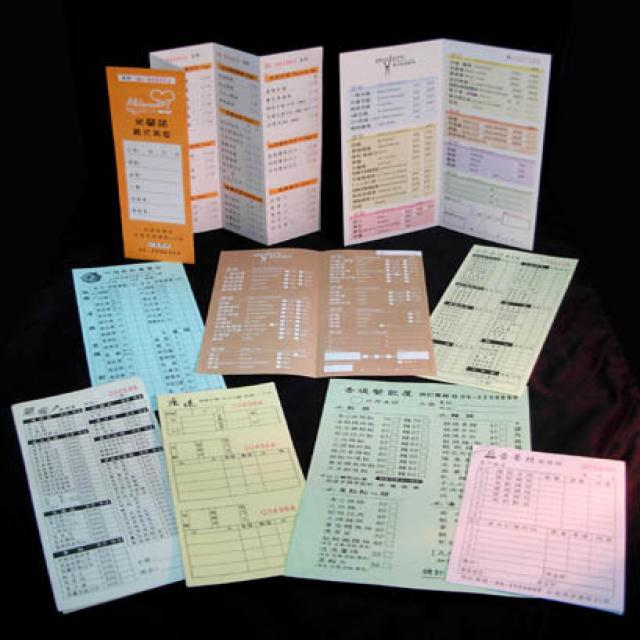paper: (12, 262, 302, 605), (288, 379, 626, 616), (110, 33, 328, 252), (344, 37, 548, 249), (196, 238, 435, 382), (424, 242, 585, 390)
